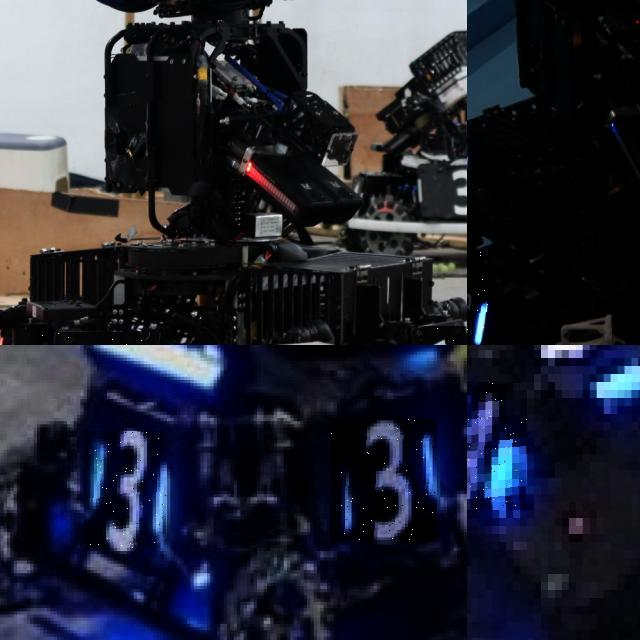B3: (330, 418, 437, 542), (84, 431, 167, 548)
B4: (467, 382, 527, 510)
Bs: (467, 250, 490, 345)
